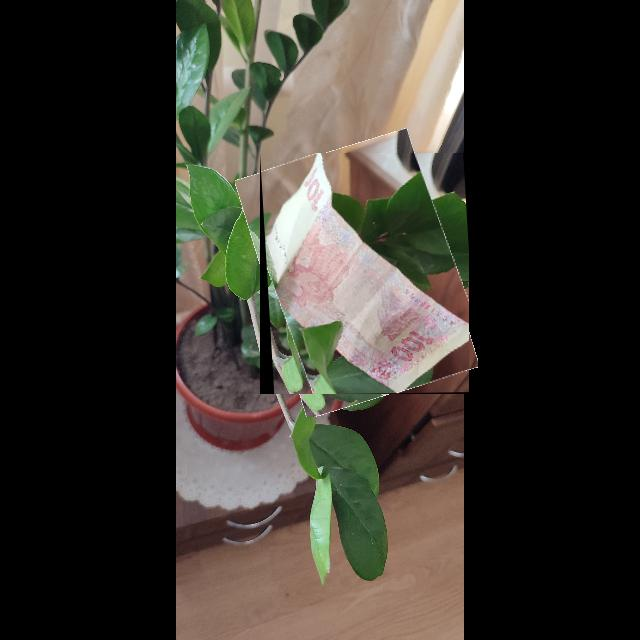100uah: (265, 153, 470, 394)
